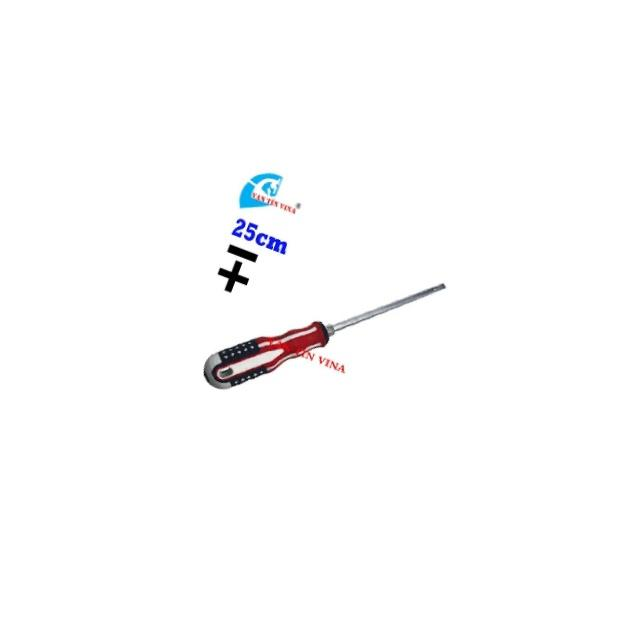screwdriver: (196, 210, 450, 454)
